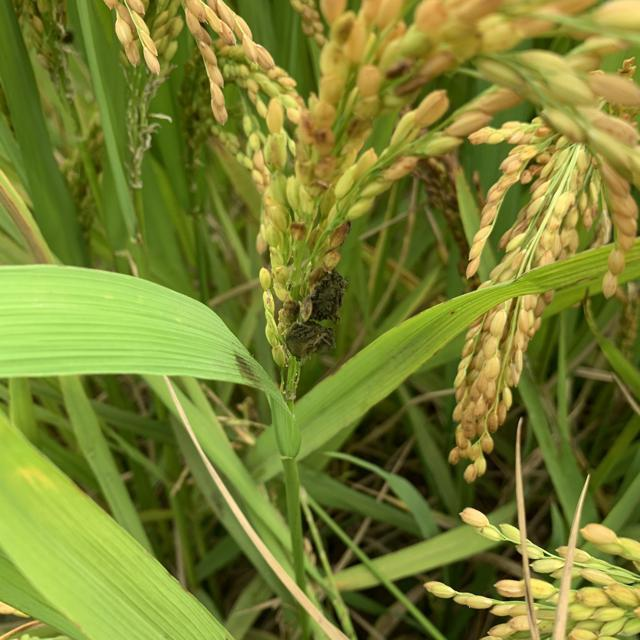Leaf_Scald: (282, 265, 348, 358)
